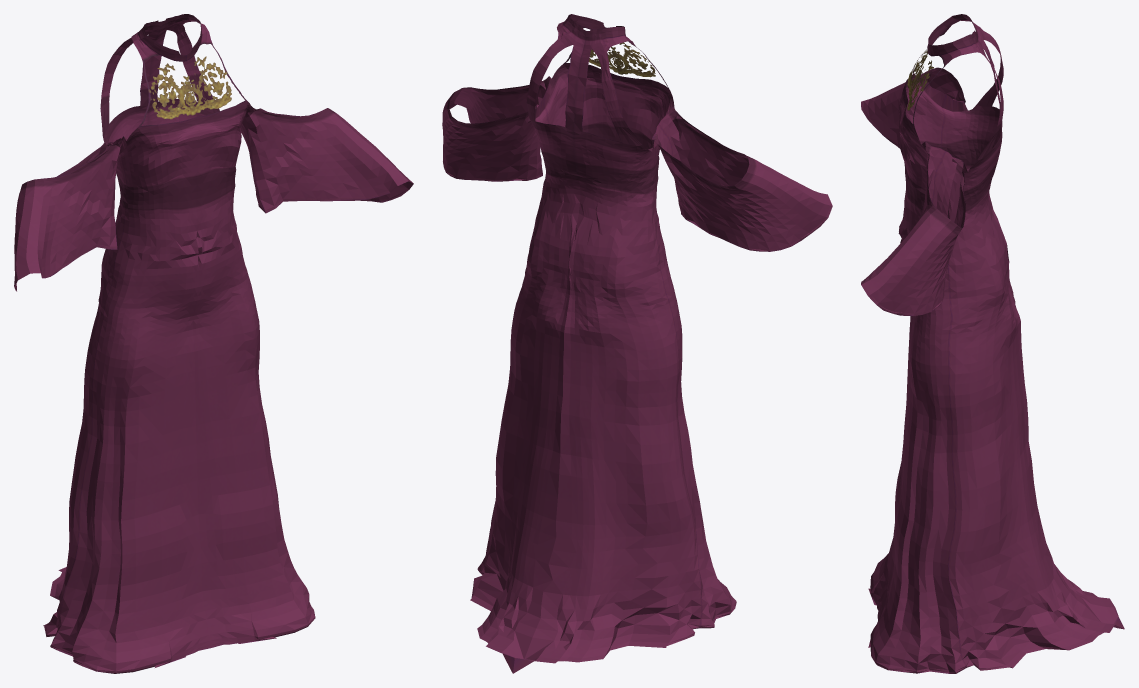
File: mhw_mindfront_f_dress_05.glb
3 renders of one model, left to right at view 1: azimuth 30°, elevation 25°; view 2: azimuth 150°, elevation 25°; view 3: azimuth 270°, elevation 25°, orthographic. The views are drawn at different scales.
Parts seen in each view (by area): view 1: mhw_mindfront_f_dress_05; view 2: mhw_mindfront_f_dress_05; view 3: mhw_mindfront_f_dress_05.
Part boxes in pixels (<box>): mhw_mindfront_f_dress_05: <box>14,14,413,673</box>; mhw_mindfront_f_dress_05: <box>442,14,832,673</box>; mhw_mindfront_f_dress_05: <box>861,14,1124,673</box>.
Size of the model in its own units: 1.11 by 1.63 by 0.6467.
1 material, 1 textured.
